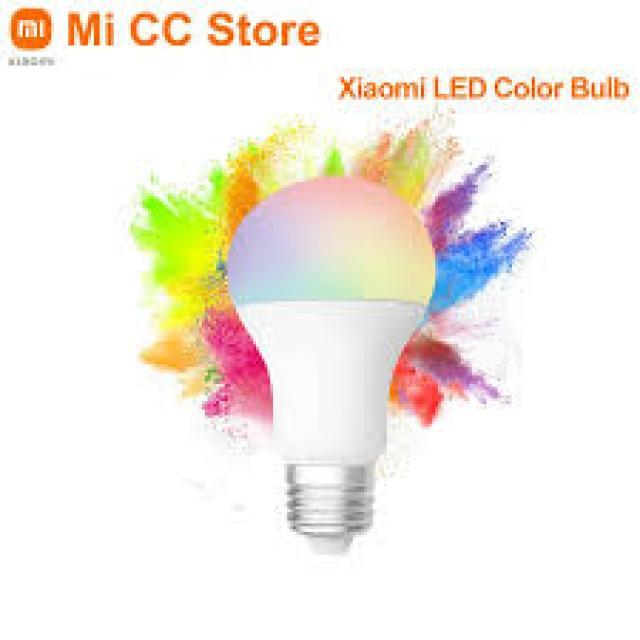light_bulb: (218, 166, 440, 562)
